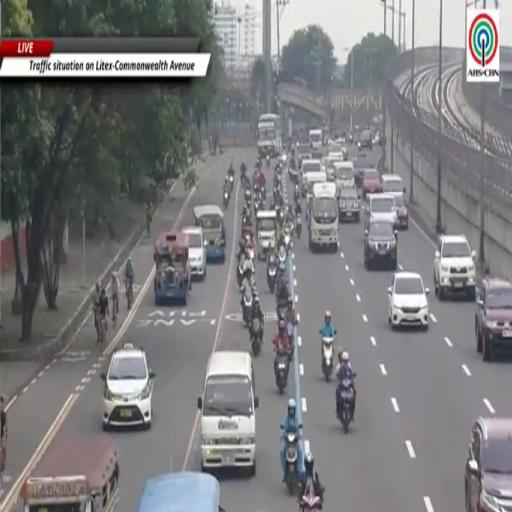bus: (309, 183, 338, 251), (258, 114, 282, 157)
car: (101, 344, 155, 429), (465, 418, 511, 511), (475, 277, 511, 361), (434, 235, 476, 301), (388, 271, 429, 330), (364, 219, 397, 269), (183, 227, 206, 280), (364, 195, 396, 227), (338, 187, 360, 222), (362, 169, 382, 198), (381, 174, 405, 196), (396, 195, 408, 230), (358, 131, 372, 149), (328, 143, 343, 159)
jeepney: (20, 437, 119, 511), (138, 472, 224, 511), (154, 231, 191, 305), (193, 205, 226, 263), (256, 211, 276, 259)
motorcycle: (285, 425, 302, 495), (337, 374, 356, 434), (274, 350, 289, 394), (322, 336, 333, 381), (251, 318, 263, 356), (300, 493, 322, 511), (242, 292, 253, 327), (282, 223, 294, 252), (267, 260, 276, 293), (286, 323, 294, 359), (277, 248, 287, 275), (277, 301, 286, 321), (237, 264, 243, 289), (295, 215, 301, 238), (278, 259, 286, 276), (277, 208, 284, 226), (246, 247, 254, 262), (260, 186, 266, 201), (294, 184, 299, 202), (224, 191, 229, 209), (245, 188, 251, 202), (229, 174, 233, 190), (266, 155, 270, 167)
